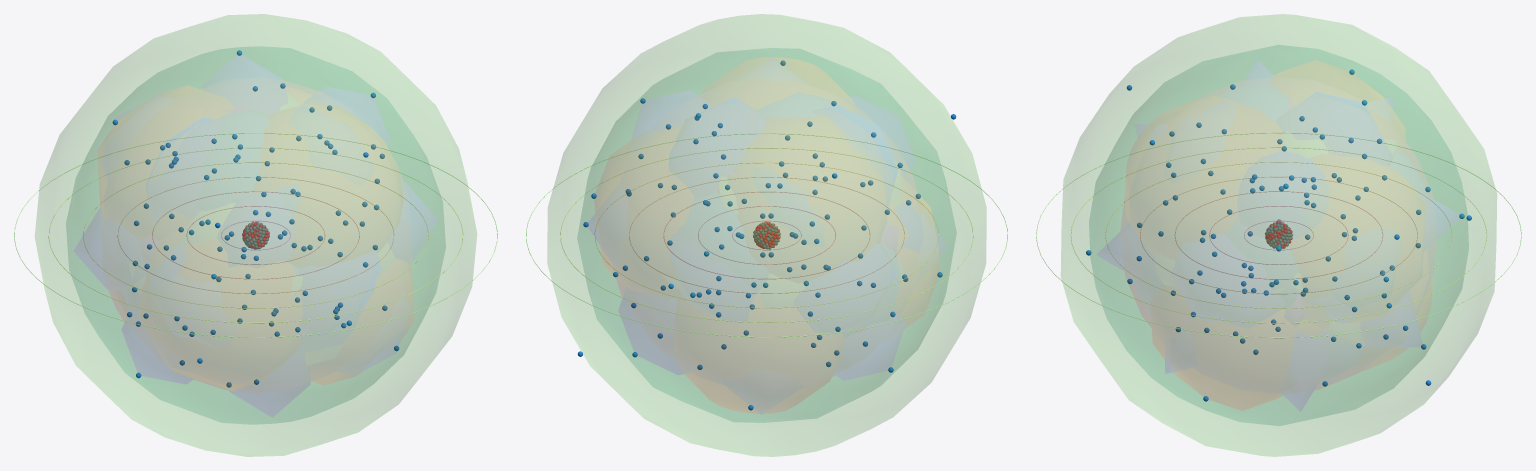
3 views of the same model, side by side, from view 1: azimuth 30°, elevation 25°; view 2: azimuth 150°, elevation 25°; view 3: azimuth 270°, elevation 25° (orthographic).
Visible parts, largest first — view 1: Orbital_7s_0, Orbital_6s_0, Orbital_6d_2, Orbital_6d_0, Orbital_6p_0, Nivel_n7, Nivel_n6, Nivel_n5, Nivel_n4, Orbital_6p_2, Orbital_6d_3, Nivel_n3; view 2: Orbital_7s_0, Orbital_6s_0, Orbital_6p_2, Orbital_6d_4, Orbital_6p_1, Orbital_6d_0, Nivel_n7, Nivel_n6, Nivel_n5, Orbital_6d_3, Nivel_n4, Nivel_n3; view 3: Orbital_7s_0, Orbital_6s_0, Orbital_6p_0, Orbital_6p_2, Orbital_6d_3, Nivel_n7, Orbital_5s_0, Nivel_n6, Nivel_n5, Nivel_n4, Orbital_6d_4.
Boxes of the visible parts, box(x1,y1,x2,y2) form: Orbital_7s_0: box(35, 14, 476, 456); Orbital_6s_0: box(66, 46, 445, 424); Orbital_6d_2: box(74, 55, 437, 416); Orbital_6d_0: box(122, 87, 389, 383); Orbital_6p_0: box(98, 86, 413, 384); Nivel_n7: box(14, 133, 497, 337); Nivel_n6: box(48, 147, 463, 323); Nivel_n5: box(83, 162, 428, 308); Nivel_n4: box(117, 177, 394, 293); Orbital_6p_2: box(120, 102, 403, 322); Orbital_6d_3: box(146, 118, 380, 334); Nivel_n3: box(152, 191, 359, 279); Orbital_7s_0: box(547, 14, 986, 456); Orbital_6s_0: box(577, 48, 956, 422); Orbital_6p_2: box(685, 58, 853, 412); Orbital_6d_4: box(619, 96, 914, 374); Orbital_6p_1: box(594, 139, 939, 328); Orbital_6d_0: box(631, 90, 904, 380); Nivel_n7: box(526, 133, 1007, 337); Nivel_n6: box(560, 148, 973, 322); Nivel_n5: box(594, 162, 939, 308); Orbital_6d_3: box(671, 105, 897, 259); Nivel_n4: box(629, 177, 904, 293); Nivel_n3: box(663, 191, 870, 279); Orbital_7s_0: box(1061, 14, 1496, 456); Orbital_6s_0: box(1089, 45, 1468, 425); Orbital_6p_0: box(1152, 60, 1405, 410); Orbital_6p_2: box(1125, 96, 1432, 370); Orbital_6d_3: box(1097, 59, 1458, 411); Nivel_n7: box(1036, 132, 1521, 338); Orbital_5s_0: box(1121, 80, 1436, 389); Nivel_n6: box(1070, 147, 1487, 323); Nivel_n5: box(1105, 162, 1452, 308); Nivel_n4: box(1140, 176, 1417, 294); Orbital_6d_4: box(1135, 97, 1422, 373).
Bounding box in the file's own units: 2.1 × 1.93 × 2.1.
